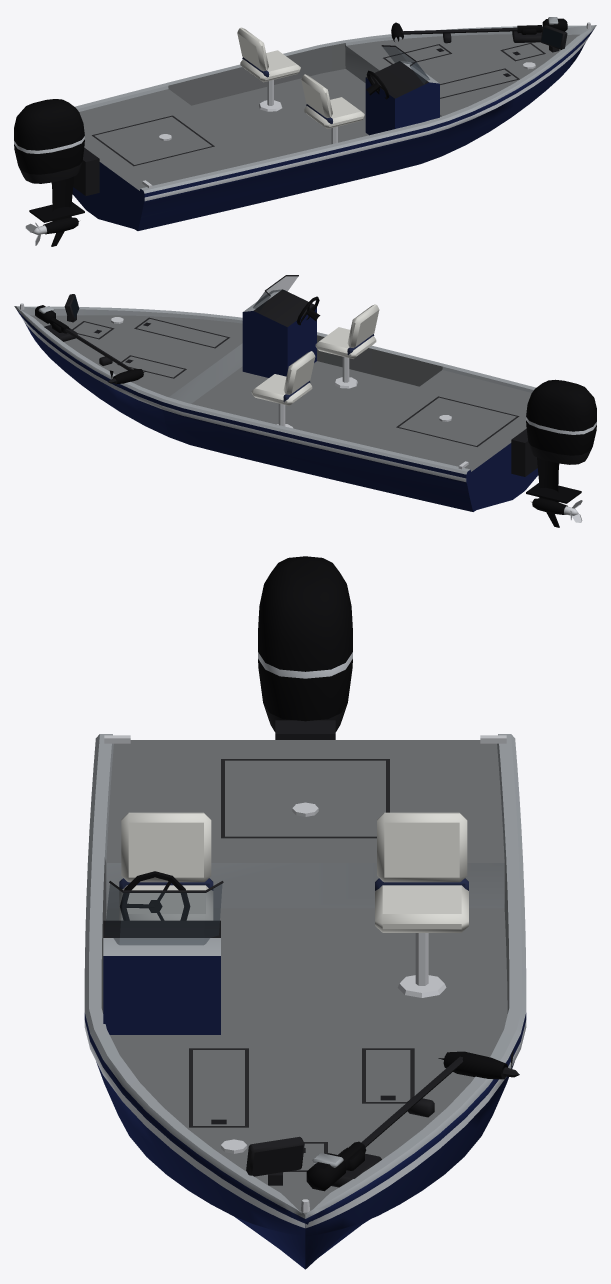
Rendered from boat.glb.
3 views of the same model, one above another, from view 1: azimuth 30°, elevation 25°; view 2: azimuth 150°, elevation 25°; view 3: azimuth 270°, elevation 25° (orthographic). The views are drawn at different scales.
Visible parts, largest first — view 1: hull, motor, trolling_motor; view 2: hull, motor, trolling_motor; view 3: hull, motor, trolling_motor.
Boxes of the visible parts, x1,y1,x2,y2 form: hull: (72, 22, 596, 230); motor: (14, 99, 99, 246); trolling_motor: (391, 17, 567, 43); hull: (14, 275, 538, 511); motor: (511, 379, 596, 527); trolling_motor: (35, 305, 145, 384); hull: (84, 734, 526, 1269); motor: (258, 556, 352, 739); trolling_motor: (306, 1049, 519, 1191).
Size of the model in its own units: 7.11 by 1.68 by 2.35.
